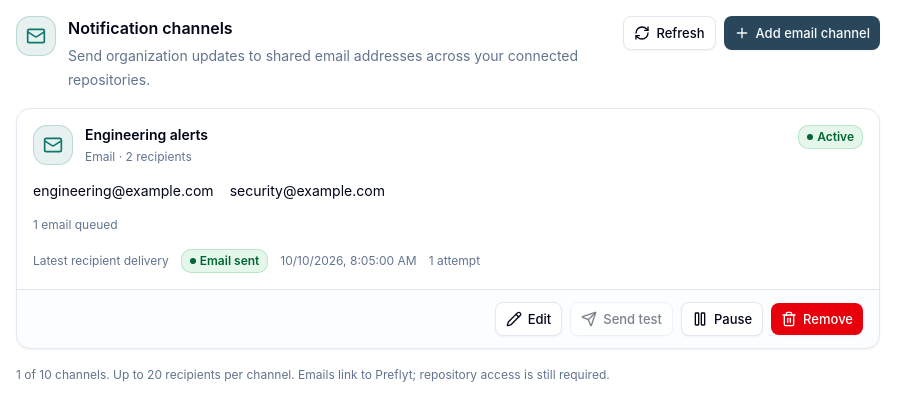
Test: keeps polling and tests disabled while another recipient remains queued after one email was sent
The width and height of the screenshot is (897, 399).
Expected: the text "1 email queued" is shown, [33,217,118,232]
Expected: the text "Latest recipient delivery" is shown, [33,253,169,269]
Click the button with aria-label "Refresh notification channels". click: (669,33)
box: [623,16,716,50]
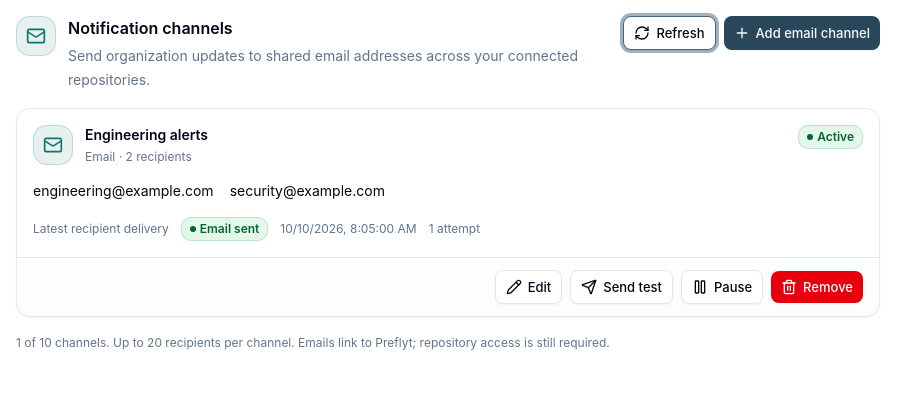
Expected: the button with aria-label "Send test to Engineering alerts" is enabled, [570,270,673,304]
